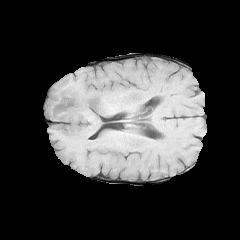glioma: (46, 87, 109, 134)
